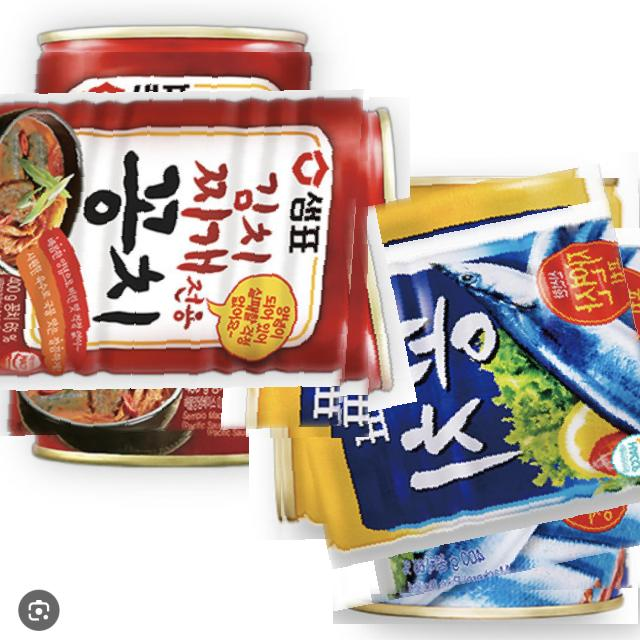recyclable: (274, 178, 640, 596), (0, 52, 367, 437)
